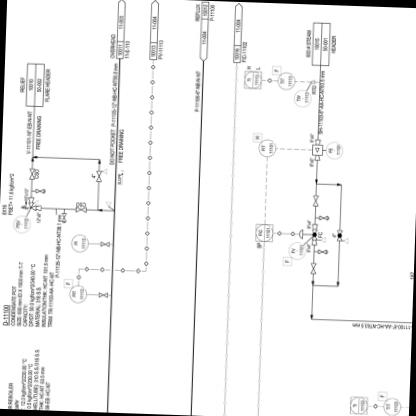LMI: (68, 231, 89, 253), (277, 70, 296, 91), (68, 284, 88, 303), (383, 396, 402, 415), (258, 138, 276, 156)
TAG: (242, 68, 262, 90), (350, 393, 369, 415), (254, 223, 274, 242)
